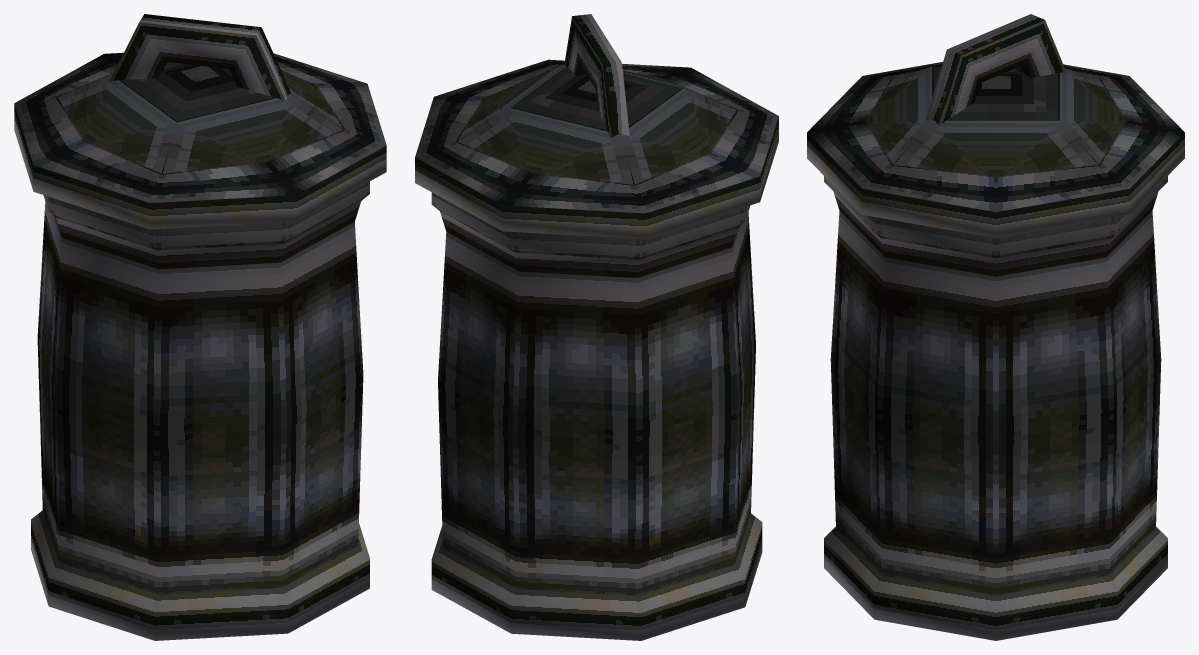
Rendered from prop_trash_can.glb.
The picture shows the model from 3 angles, left to right: view 1: azimuth 30°, elevation 25°; view 2: azimuth 150°, elevation 25°; view 3: azimuth 270°, elevation 25°; orthographic projection. The views are drawn at different scales.
Parts seen in each view (by area): view 1: Metalic_Trash_Can; view 2: Metalic_Trash_Can; view 3: Metalic_Trash_Can.
Boxes of the visible parts, x1,y1,x2,y2 form: Metalic_Trash_Can: (14,14,386,640); Metalic_Trash_Can: (415,14,778,640); Metalic_Trash_Can: (807,14,1184,640).
Size of the model in its own units: 0.7686 by 1.2 by 0.7686.
Materials: 1 (1 with a texture image).
